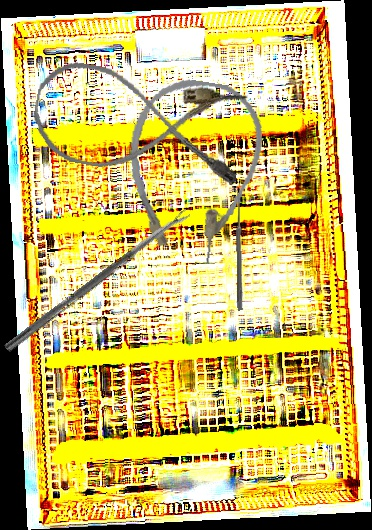Cannula: (113, 71, 272, 270), (26, 56, 252, 191)
Surgical Spoon: (3, 208, 192, 354), (235, 191, 244, 311)
